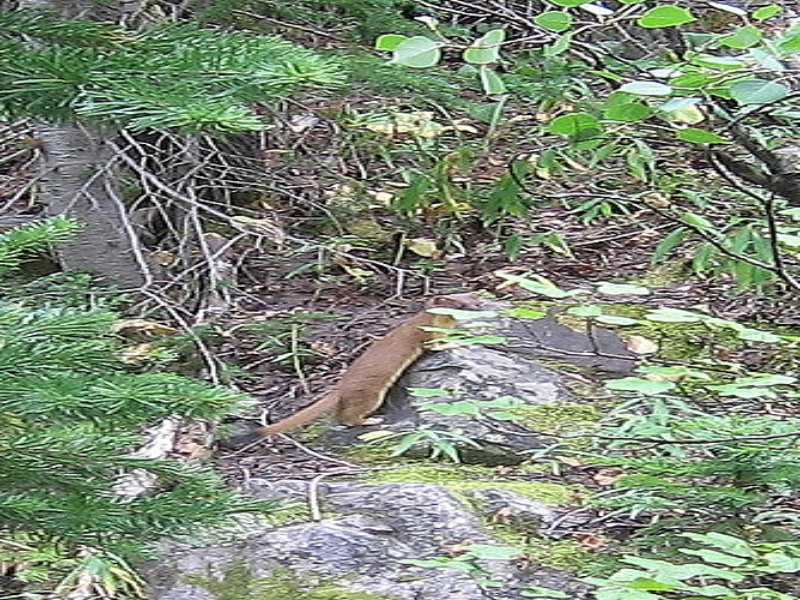minkish: (254, 291, 479, 451)
